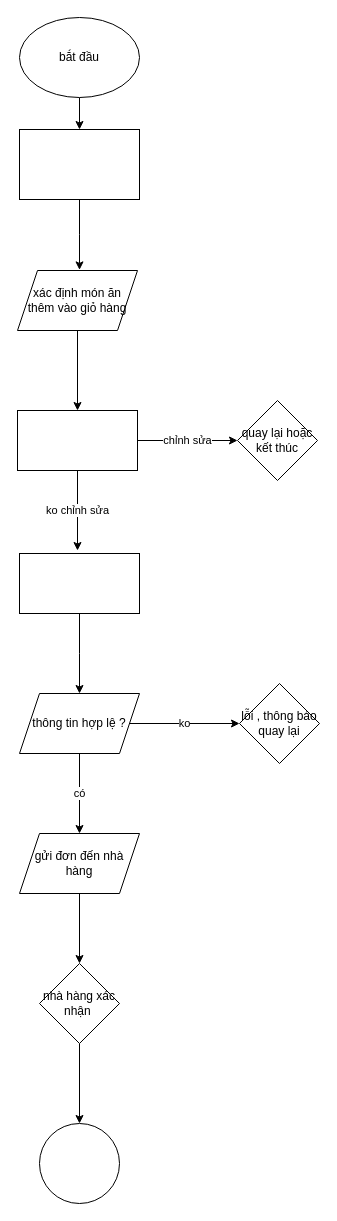
Some shapes in this 337 by 1221 pixel diagram are drawn without their labels. The shapes that lost their labels are listed below. From the top down, each one's centre as x and y in pixels, then its label:
the point at 79,164: mở ứng dụng gọi món
the point at 77,440: vào giỏ hàng
the point at 79,583: nhập địa chỉ giao hàng và thông tin
